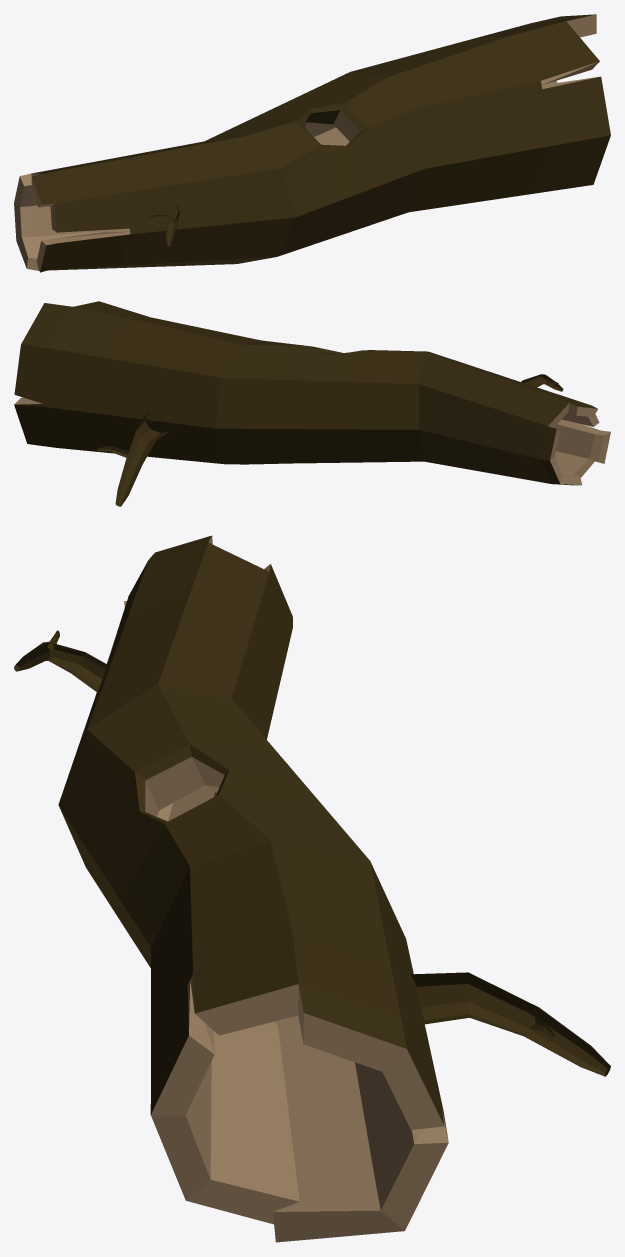
Rendered from Hackaton_Log.fbx.
3 views of the same model, one above another, from view 1: azimuth 30°, elevation 25°; view 2: azimuth 150°, elevation 25°; view 3: azimuth 270°, elevation 25° (orthographic). The views are drawn at different scales.
Parts seen in each view (by area): view 1: Log; view 2: Log; view 3: Log.
Boxes of the visible parts, left/top/right/bottom form: Log: left=14, top=14, right=610, bottom=272; Log: left=14, top=301, right=610, bottom=506; Log: left=14, top=535, right=610, bottom=1242.
Bounding box in the file's own units: 394 × 99.93 × 206.
